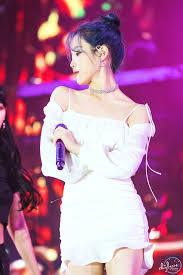earphone: (97, 50, 105, 57)
